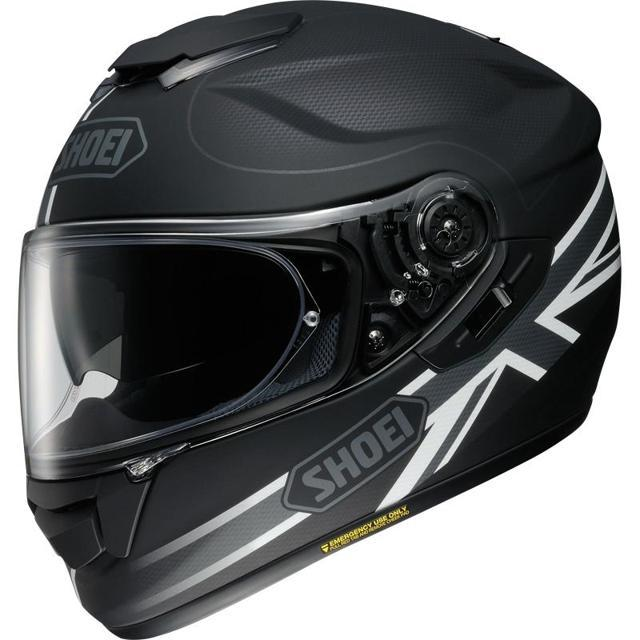Full-face-helmet: (15, 0, 622, 638)
